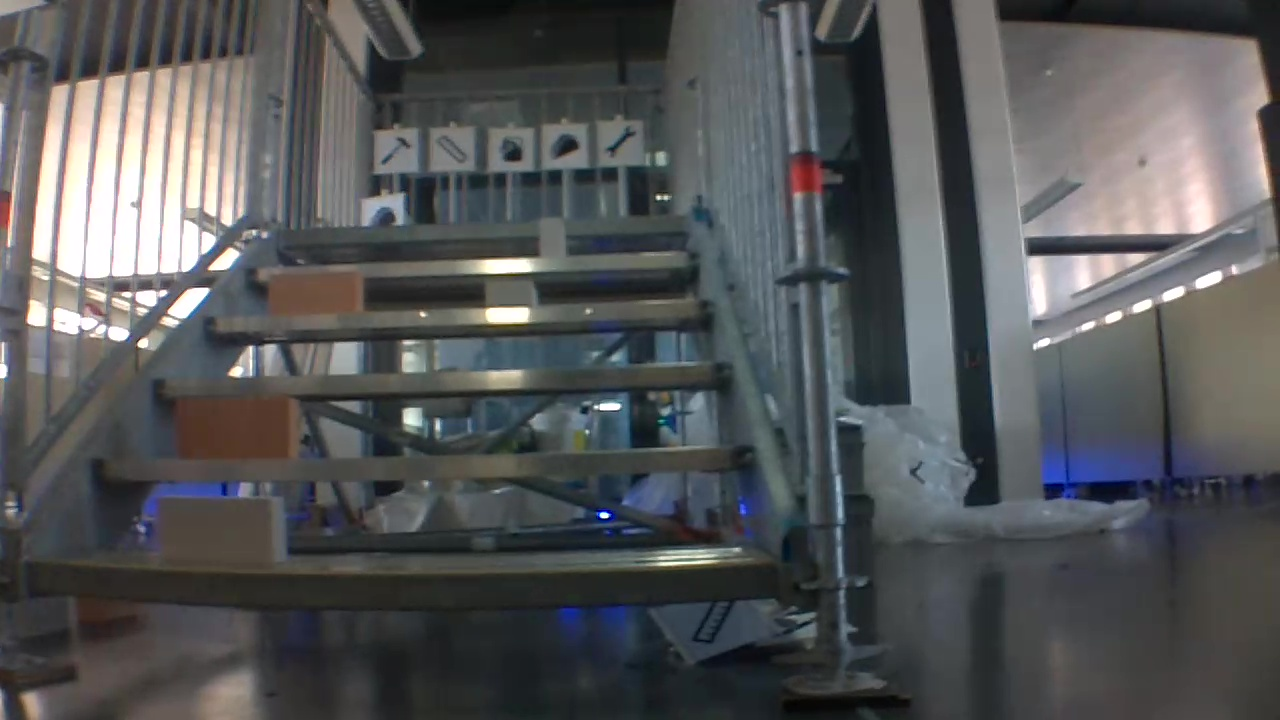brick: (154, 498, 284, 563), (177, 398, 299, 457), (268, 273, 362, 313), (483, 281, 537, 307), (539, 216, 566, 256)
bucket: (492, 131, 528, 165)
edge: (25, 558, 775, 604), (91, 444, 752, 482), (152, 359, 731, 393), (203, 299, 714, 331), (248, 252, 696, 278), (285, 215, 689, 242)
hammer: (375, 132, 415, 170)
ruler: (430, 131, 471, 167)
stairs: (0, 0, 914, 712)
steps: (21, 204, 788, 615)
taco: (546, 129, 581, 163), (365, 200, 398, 225)
wrench: (602, 120, 641, 162)
